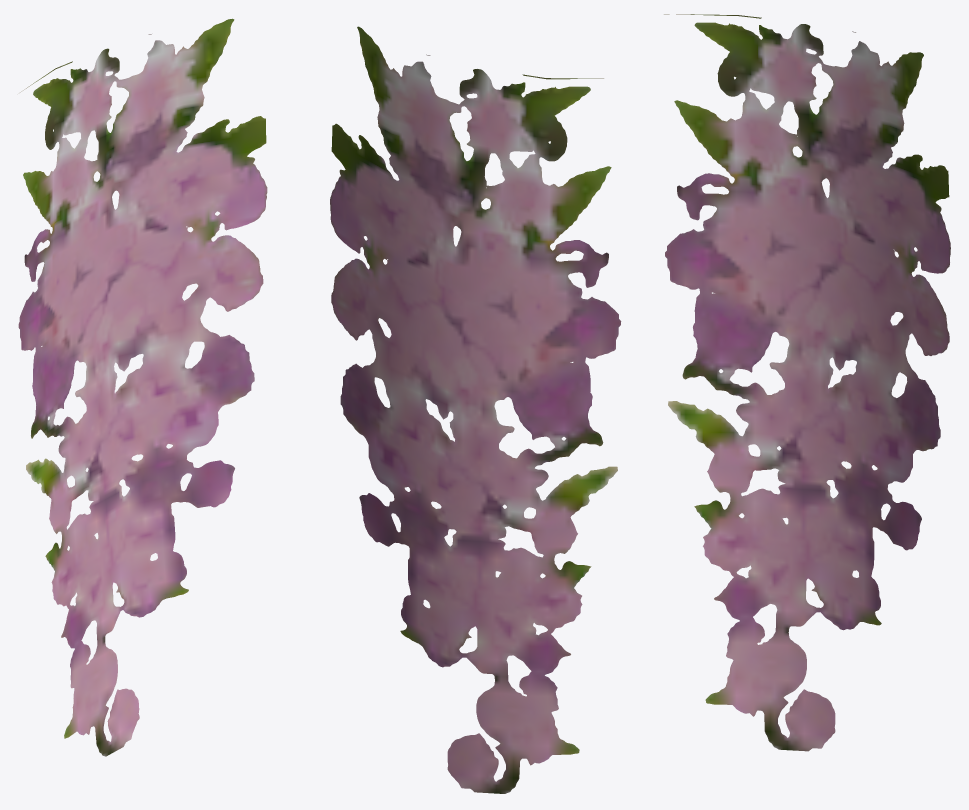
Rendered from liemo_plant_10 (32).fbx.
The picture shows the model from 3 angles, left to right: view 1: azimuth 30°, elevation 25°; view 2: azimuth 150°, elevation 25°; view 3: azimuth 330°, elevation 25°; orthographic projection. The views are drawn at different scales.
Visible parts, largest first — view 1: liemo_plant_10 (32); view 2: liemo_plant_10 (32); view 3: liemo_plant_10 (32).
Boxes of the visible parts, x1,y1,x2,y2 form: liemo_plant_10 (32): (18,18,267,756); liemo_plant_10 (32): (330,26,621,793); liemo_plant_10 (32): (664,14,950,751).
Size of the model in its own units: 0.6262 by 1.48 by 0.1823.
